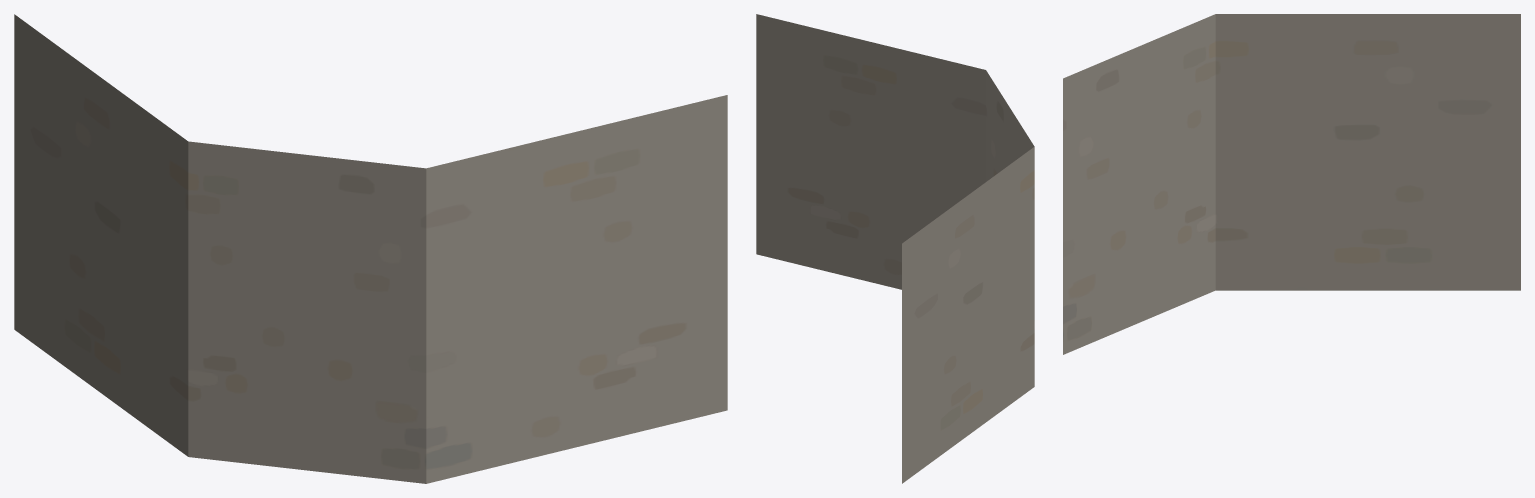
File: Bock_A2(0).fbx
The picture shows the model from 3 angles, left to right: view 1: azimuth 30°, elevation 25°; view 2: azimuth 150°, elevation 25°; view 3: azimuth 270°, elevation 25°; orthographic projection. The views are drawn at different scales.
Visible parts, largest first — view 1: Bock_A2; view 2: Bock_A2; view 3: Bock_A2.
Boxes of the visible parts, box(x1,y1,x2,y2) form: Bock_A2: box(14, 14, 727, 483); Bock_A2: box(756, 14, 1034, 483); Bock_A2: box(1063, 14, 1520, 354).
Size of the model in its own units: 600 by 400 by 600.
